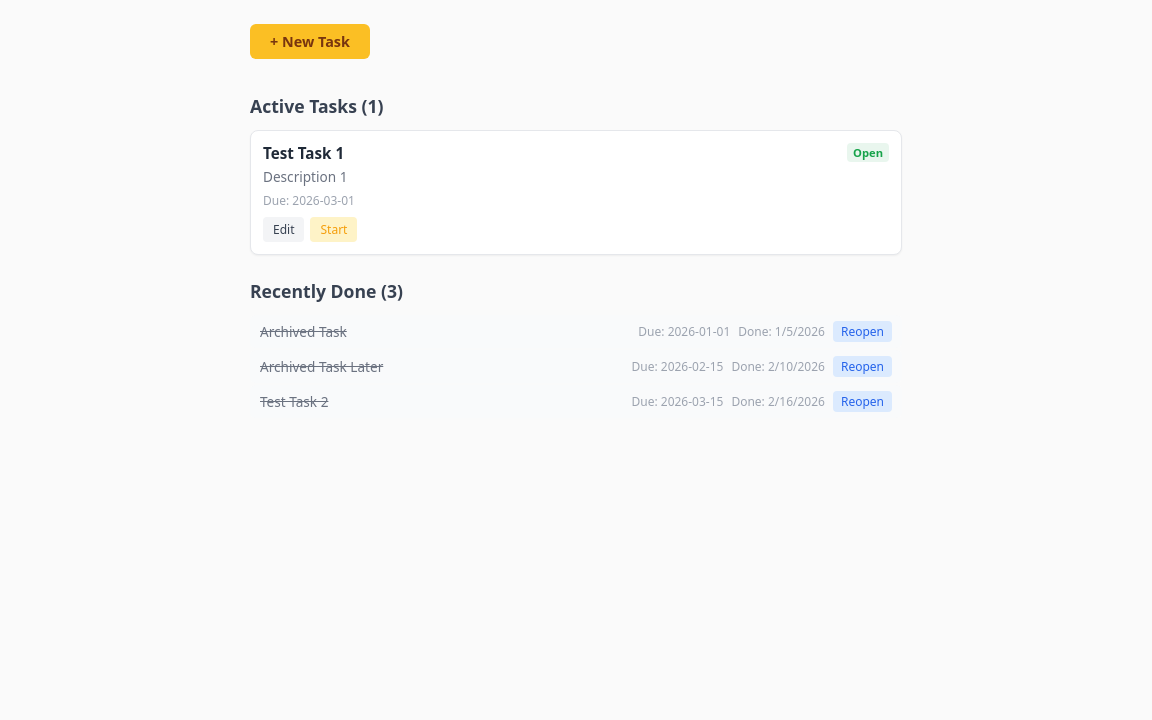
it: ListView › should open modal when New Task button clicked
What coordinates should you click on to do the following:
click the button "+ New Task"
I would click on:
 (310, 42)
Its box is [250, 24, 370, 59].
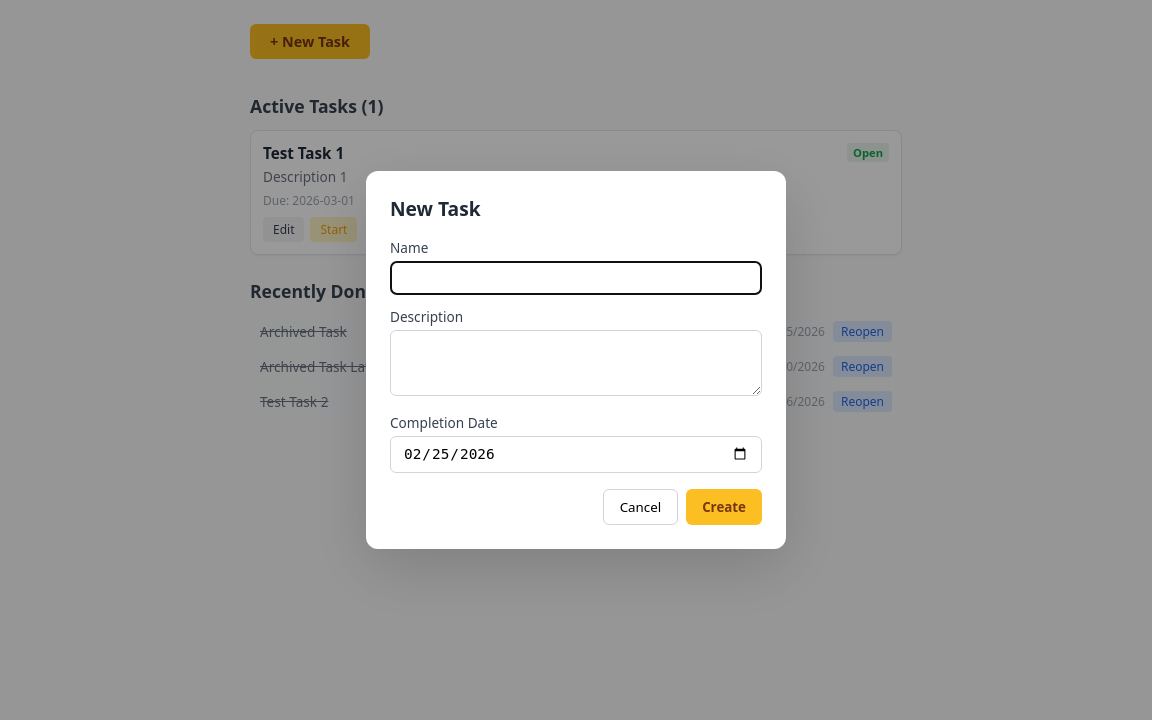
Expected: the heading "New Task" is shown, [390, 195, 481, 222]
